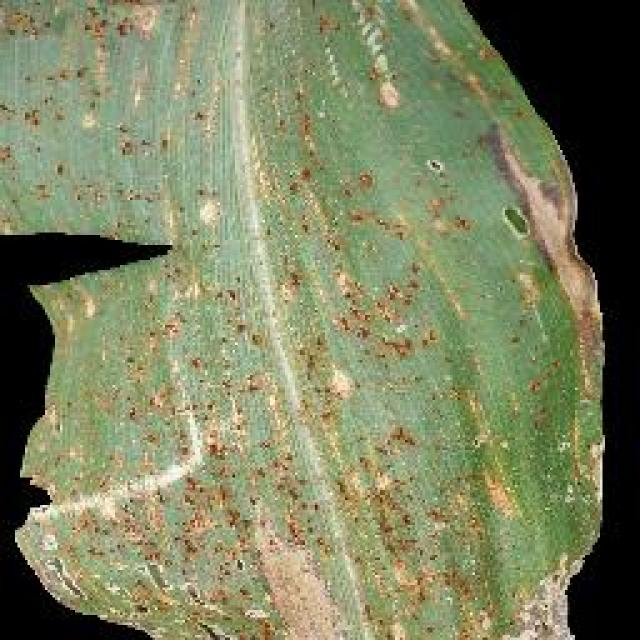Corn___Common_rust: (78, 95, 562, 639)
